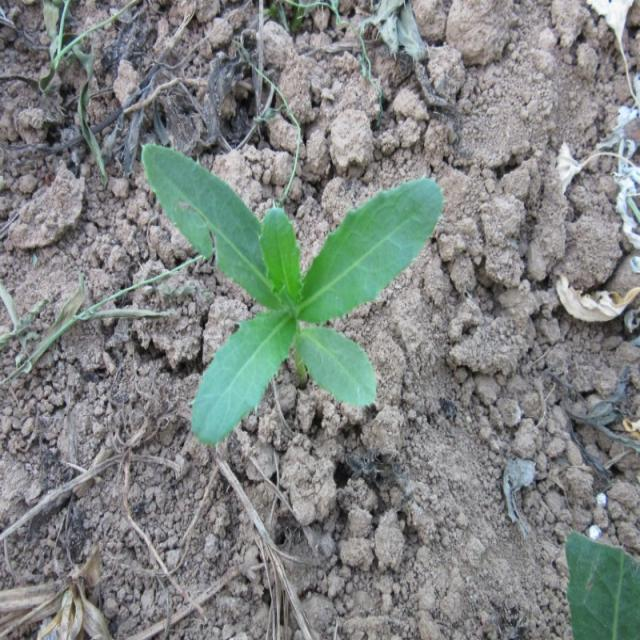cs: (141, 135, 443, 447)
